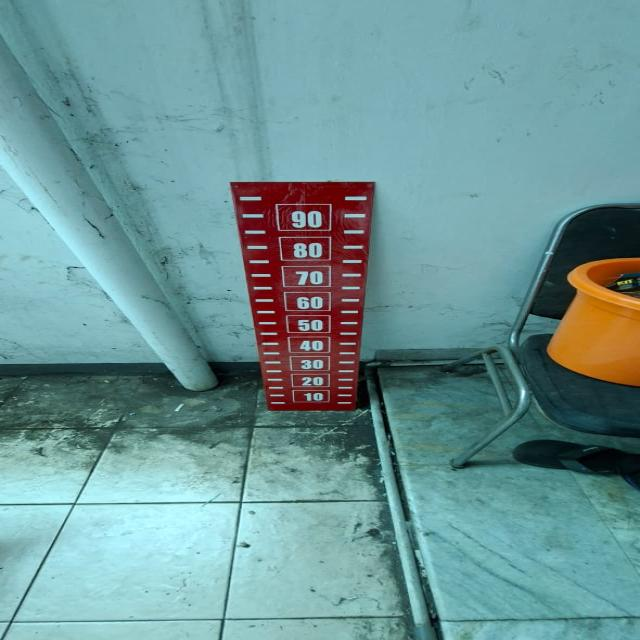water-meter: (212, 172, 392, 416)
